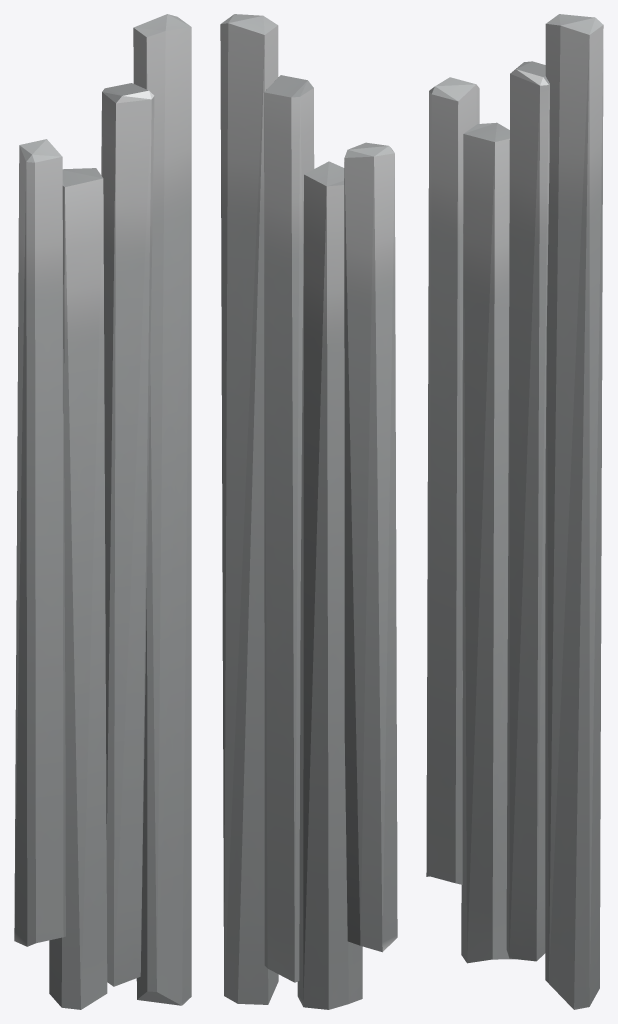
3 renders of one model, left to right at view 1: azimuth 30°, elevation 25°; view 2: azimuth 150°, elevation 25°; view 3: azimuth 330°, elevation 25°, orthographic.
Parts seen in each view (by area): view 1: rock_20m_1; view 2: rock_20m_1; view 3: rock_20m_1.
Part boxes in pixels (<box>): rock_20m_1: <box>14,14,191,1009</box>; rock_20m_1: <box>220,14,397,1009</box>; rock_20m_1: <box>426,14,603,1009</box>.
Size of the model in its own units: 3.5 by 20 by 1.
1 material, 1 textured.
